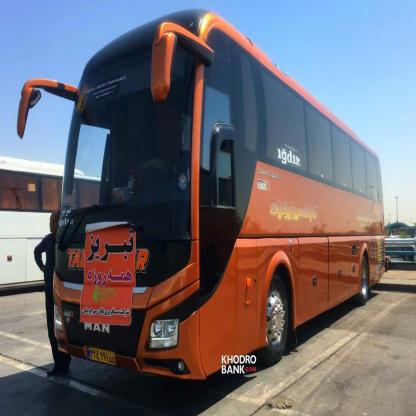Bus: (33, 7, 386, 373), (0, 151, 109, 285)
